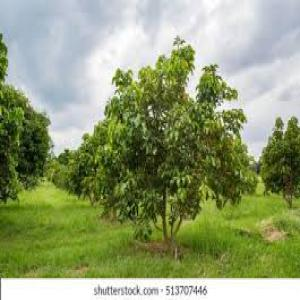Tree: (74, 33, 255, 258)
